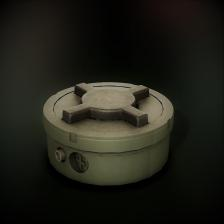PMN2: (32, 77, 187, 193)
